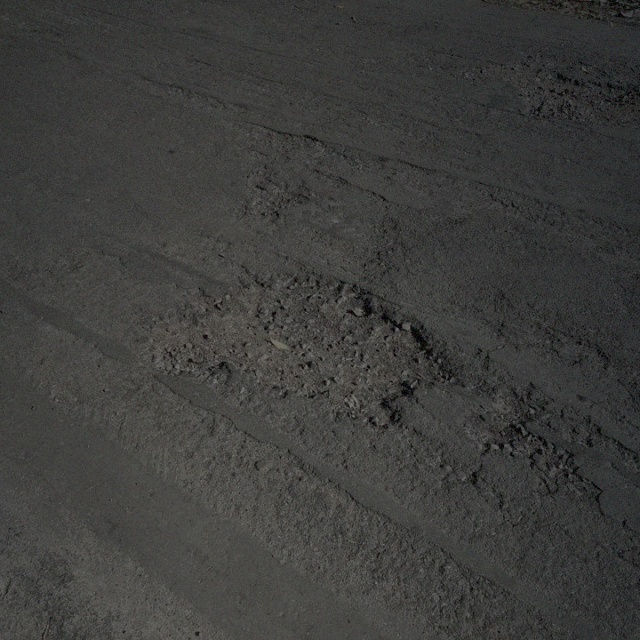pothole: (132, 260, 462, 433), (455, 46, 639, 126), (456, 382, 549, 452), (239, 177, 314, 220)
